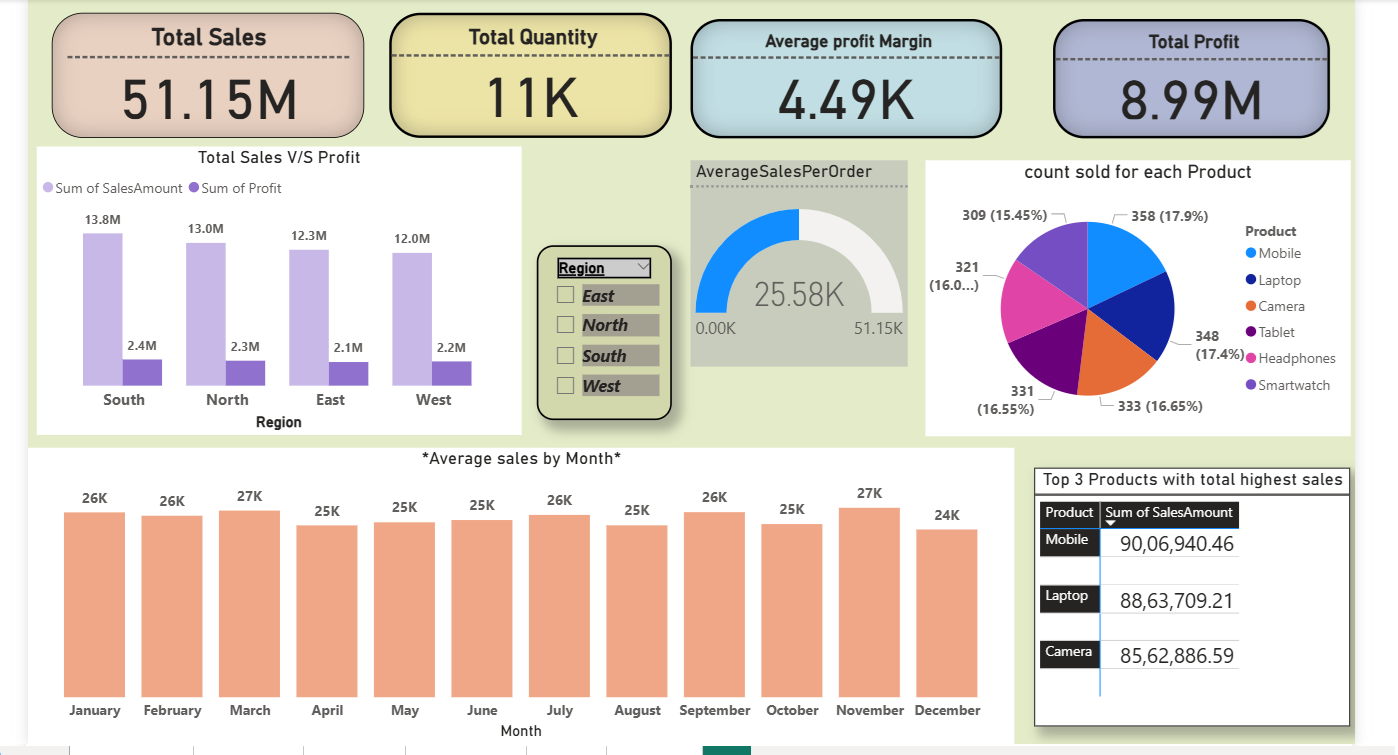

The page's visual inventory and layout, read from the dashboard file:
{"tool":"powerbi","page":{"name":"Page 1","canvas":[1280,720],"ordinal":0},"visuals":[{"type":"card","title":"Average profit Margin","fields":{"Values":["Avg(Sheet1.Profit)"]},"box":[639.5,19.2,300.5,115.3],"z":0},{"type":"pieChart","title":"count sold for each Product","fields":{"Category":["Sheet1.Product"],"Y":["CountNonNull(Sheet1.Quantity)"]},"box":[865.9,155.1,410.3,266.2],"z":1000},{"type":"columnChart","title":" *Average sales by Month*","fields":{"Category":["Sheet1.OrderDate.Variation.Date Hierarchy.Month"],"Y":["Avg(Sheet1.SalesAmount)"]},"box":[0,433.6,952.3,286.8],"z":2000},{"type":"clusteredColumnChart","title":" Total Sales V/S Profit","fields":{"Y":["Sum(Sheet1.SalesAmount)","Sum(Sheet1.Profit)"],"Category":["Sheet1.Region"]},"box":[8.2,142.7,467.9,278.6],"z":3000},{"type":"slicer","fields":{"Values":["Sheet1.Region"]},"box":[491.3,237.4,130.4,168.8],"z":4000},{"type":"pivotTable","title":"Top 3 Products with total highest sales","fields":{"Rows":["Sheet1.Product"],"Values":["Sum(Sheet1.SalesAmount)","select"]},"box":[971.5,452.8,304.6,249.7],"z":5000},{"type":"card","title":"Total Sales","fields":{"Values":["Sum(Sheet1.SalesAmount)"]},"box":[23.3,13.7,301.9,120.8],"z":6000},{"type":"card","title":"Total Quantity","fields":{"Values":["Sum(Sheet1.Quantity)"]},"box":[348.5,13.7,273.1,120.8],"z":7000},{"type":"card","title":"Total Profit","fields":{"Values":["Sum(Sheet1.Profit)"]},"box":[989.4,19.2,267.6,115.3],"z":8000},{"type":"gauge","fields":{"Y":["Sheet1.AverageSalesPerOrder"]},"box":[639.5,155.1,209.9,199],"z":9000}]}

Visuals, with their boxes in screenshot pixels (x1, y1, x2, y2):
"Average profit Margin" card: bbox(689, 16, 999, 135)
"count sold for each Product" pieChart: bbox(923, 156, 1346, 431)
" *Average sales by Month*" columnChart: bbox(29, 444, 1012, 740)
" Total Sales V/S Profit" clusteredColumnChart: bbox(38, 144, 521, 431)
slicer - Sheet1.Region: bbox(536, 241, 671, 416)
"Top 3 Products with total highest sales" pivotTable: bbox(1032, 464, 1346, 721)
"Total Sales" card: bbox(53, 11, 365, 135)
"Total Quantity" card: bbox(389, 11, 671, 135)
"Total Profit" card: bbox(1050, 16, 1327, 135)
gauge - Sheet1.AverageSalesPerOrder: bbox(689, 156, 906, 362)
